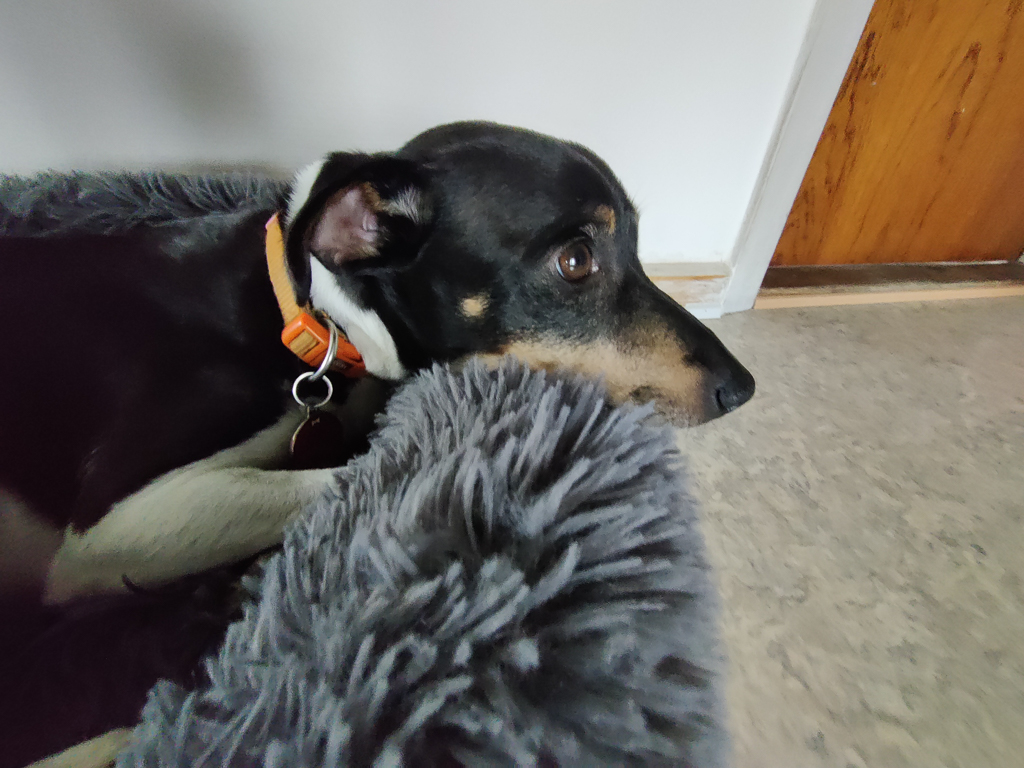Dog: (0, 108, 781, 768)
